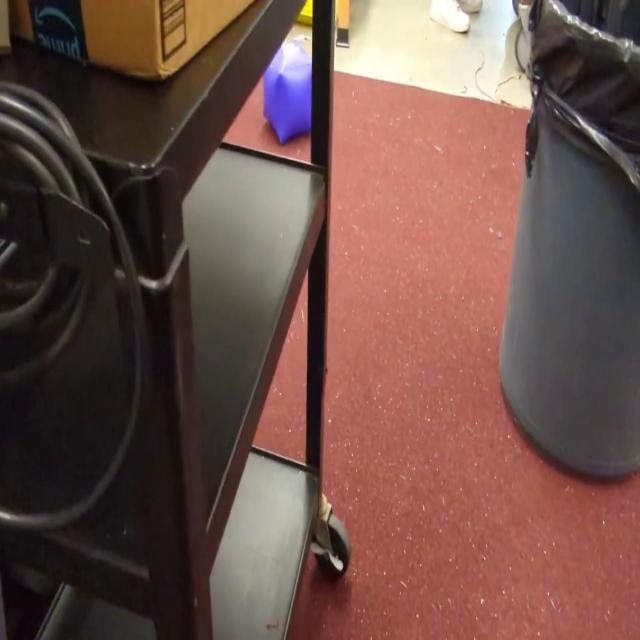frc_cube: (263, 41, 313, 140)
